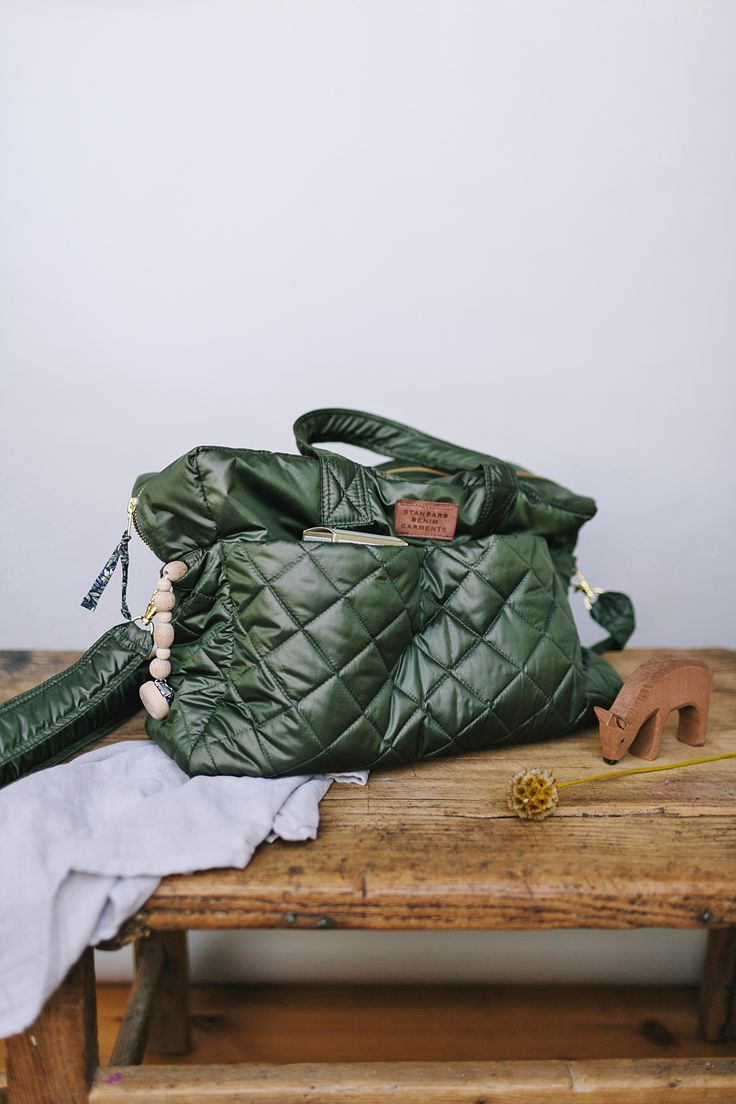nylon: (1, 408, 636, 795)
